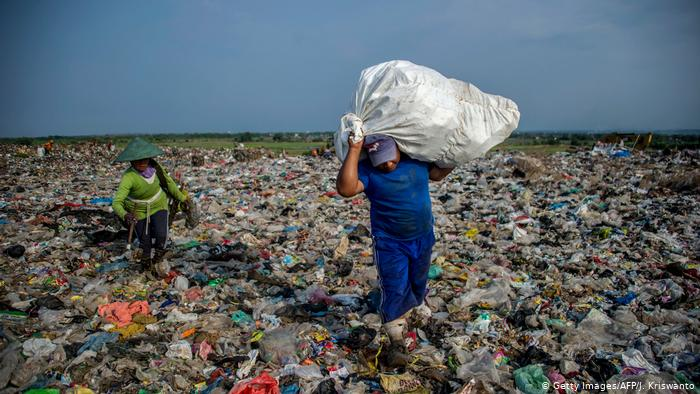plastic_bagwdw: (308, 46, 565, 218)
